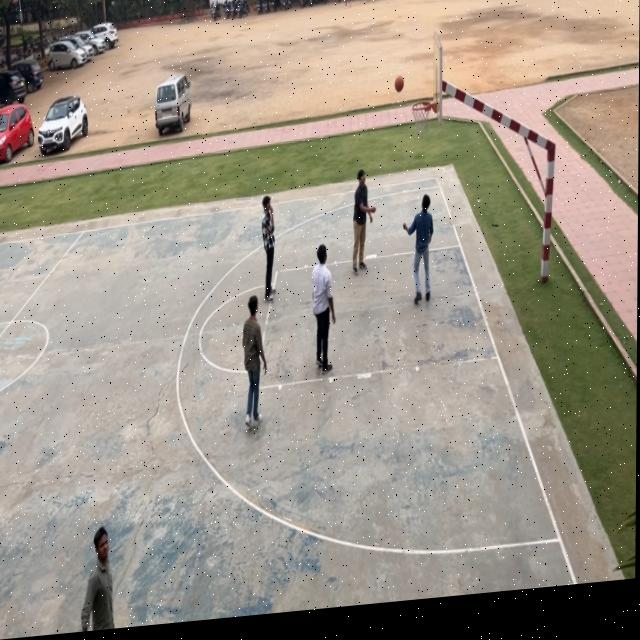basketball: (393, 72, 406, 97)
hoop: (411, 97, 430, 140)
